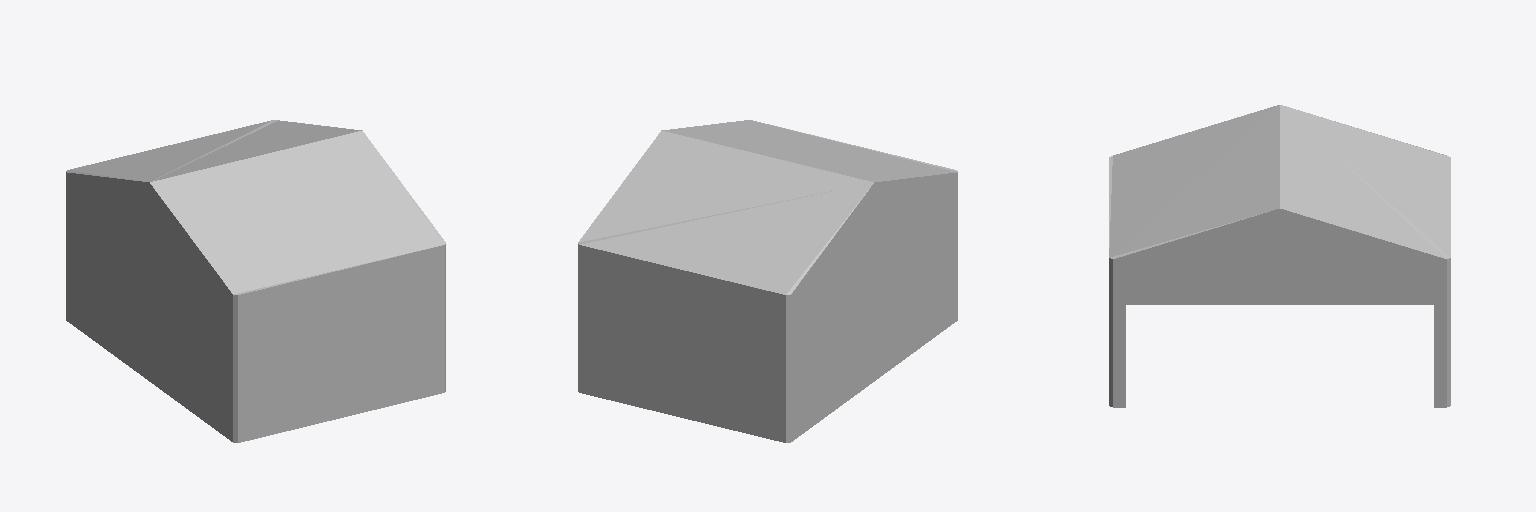
File: barracksbuilding1.obj
3 renders of one model, left to right at view 1: azimuth 30°, elevation 25°; view 2: azimuth 150°, elevation 25°; view 3: azimuth 270°, elevation 25°, orthographic.
Visible parts, largest first — view 1: Cube_Cube.001; view 2: Cube_Cube.001; view 3: Cube_Cube.001.
Part boxes in pixels (x1,y1,x2,y2): Cube_Cube.001: (66,120,445,442); Cube_Cube.001: (578,120,957,442); Cube_Cube.001: (1109,105,1450,407).
Size of the model in its own units: 26.2 by 23.4 by 36.4.